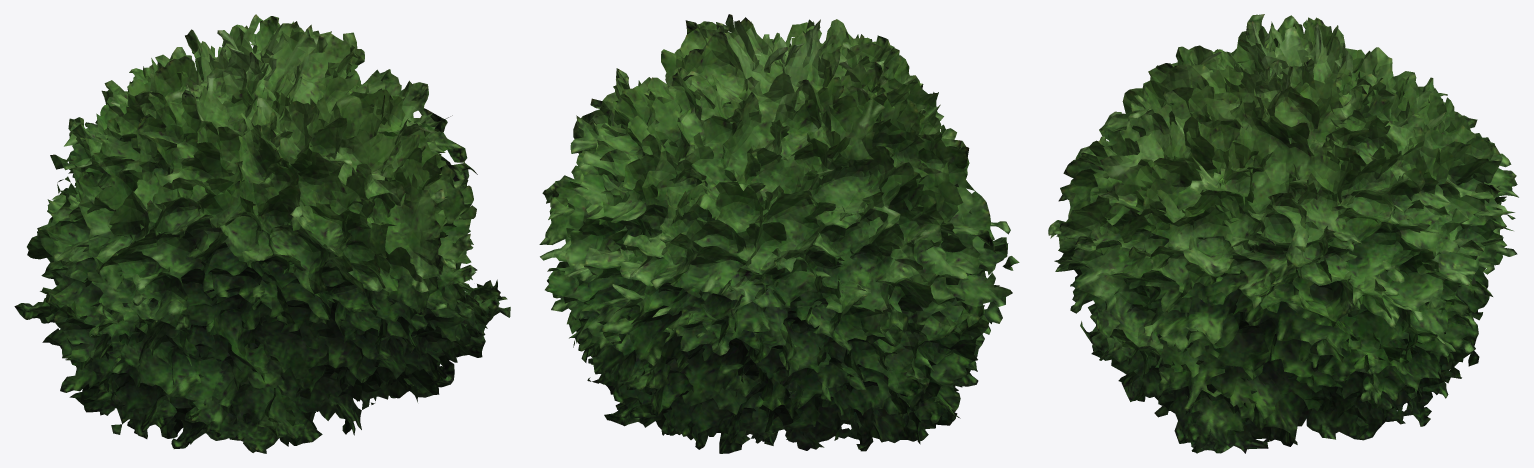
Rendered from shrub.glb.
3 renders of one model, left to right at view 1: azimuth 30°, elevation 25°; view 2: azimuth 150°, elevation 25°; view 3: azimuth 270°, elevation 25°, orthographic. The views are drawn at different scales.
Visible parts, largest first — view 1: world; view 2: world; view 3: world.
Part boxes in pixels (x1,y1,x2,y2): world: (14,14,510,453); world: (539,14,1019,453); world: (1048,14,1518,453).
Size of the model in its own units: 0.9361 by 0.8151 by 0.9446.
Materials: 1 (1 with a texture image).
